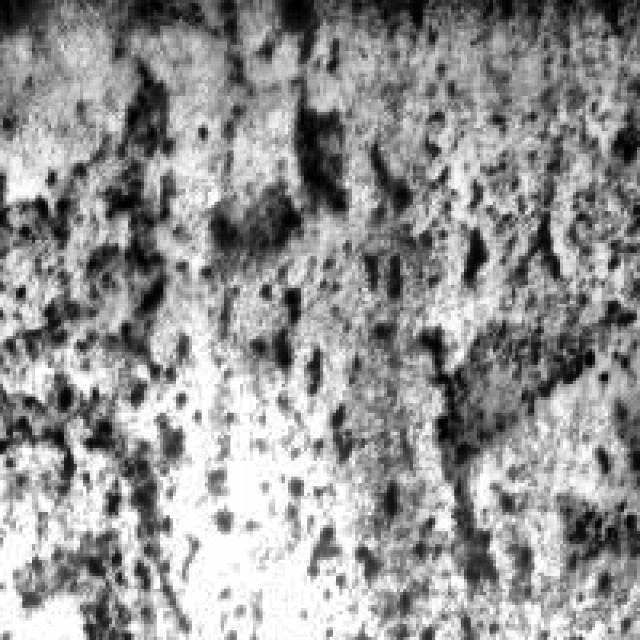Rolled_in_Scale: (208, 90, 499, 572), (0, 58, 176, 628)
